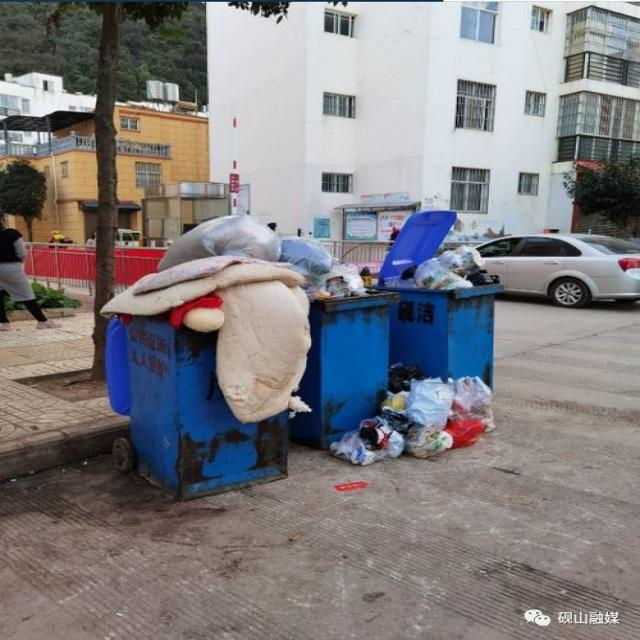garbage: (328, 360, 495, 465)
overflow: (105, 218, 291, 498), (288, 235, 396, 450), (375, 245, 501, 389)
